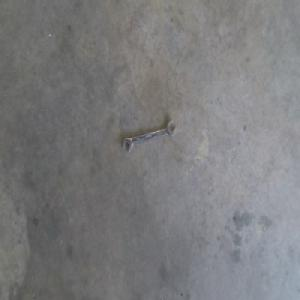Wrench: (121, 120, 176, 154)
